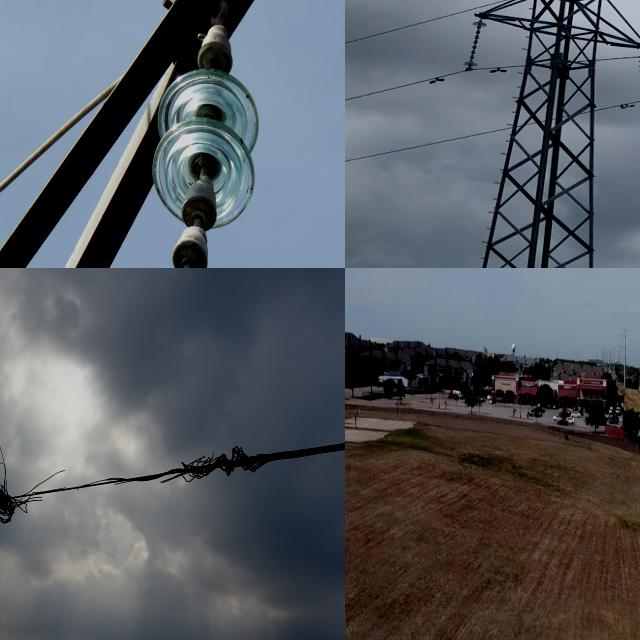杆塔: (459, 0, 640, 268), (636, 323, 640, 394)
正常绝缘子: (117, 9, 263, 268), (463, 18, 488, 70), (635, 45, 640, 110)
电缆破损: (0, 430, 281, 537)
绝缘子破损: (180, 193, 218, 239), (171, 240, 209, 268), (474, 32, 481, 38), (470, 52, 477, 58), (473, 38, 479, 44), (471, 46, 477, 51), (475, 26, 482, 30)
